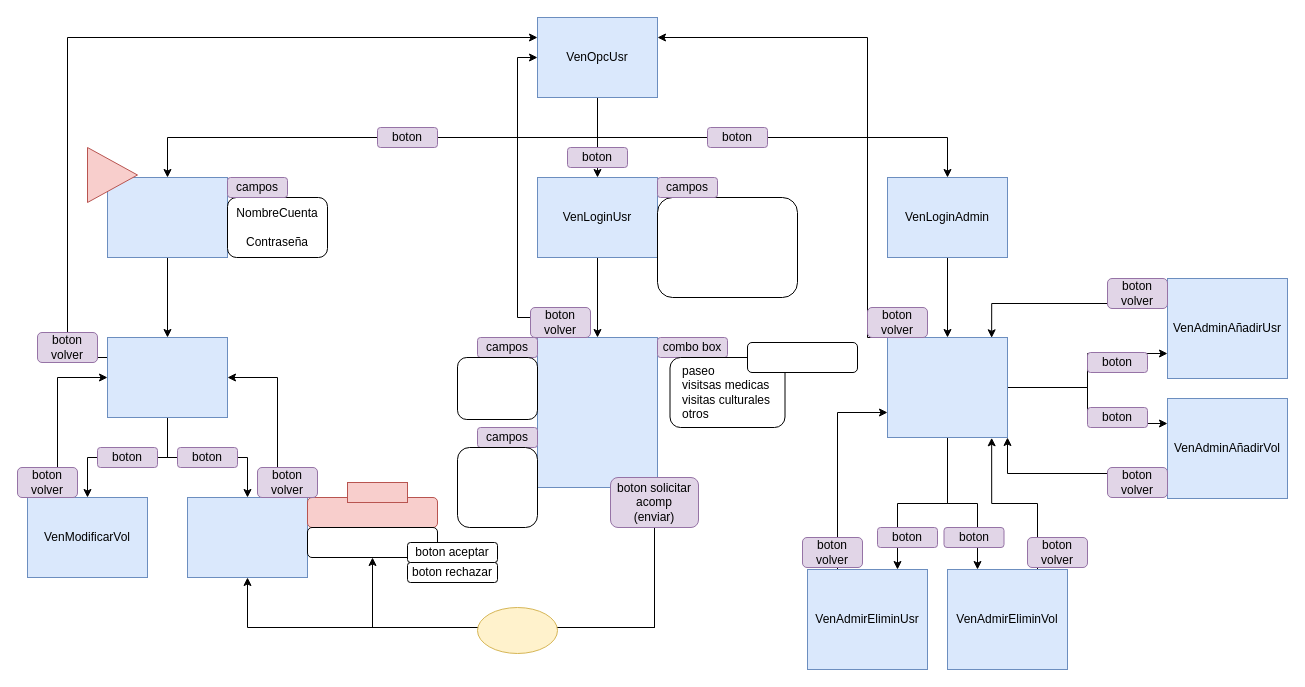
Some shapes in this 1305 by 687 pixel diagram are drawn without their labels. Here are the shapes that lost their labels. From the top down, the centre of each, then its label:
At (167,217): "VenLoginVol".
At (727,247): "NombreCuenta Contraseña Asociacion de la que recibes el servicio".
At (167,377): "VenPpalVol".
At (802,357): "tipo de acompañameinto".
At (497,388): "Mes Dia Hora Mins".
At (947,387): "VenPpalAdmin".
At (597,412): "VenPpalUsr".
At (377,492): "pa luego".
At (497,487): "Lugar de recogida Lugar de destino".
At (372,512): "mostrar notificaciones antiguas".
At (247,537): "VenNotificacinesVol".
At (372,542): "mostrar notificaciones nuevas".
At (517,630): "notificacion".
